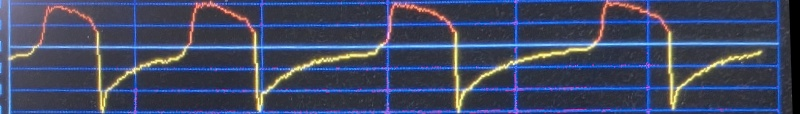normal_flow: (7, 0, 768, 114)
